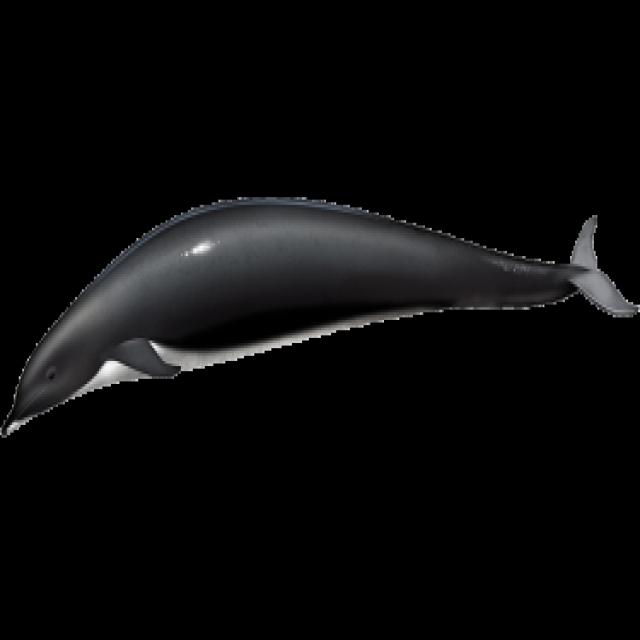penguin: (2, 197, 637, 433)
